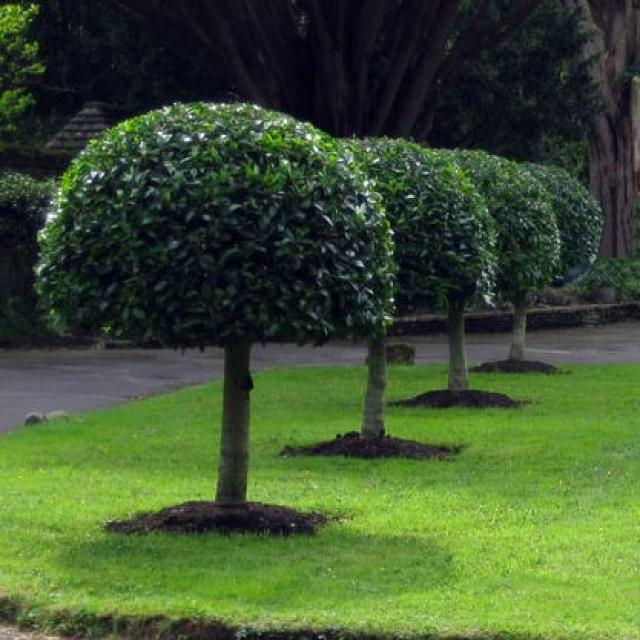foliage: (35, 101, 394, 505), (341, 140, 496, 436), (431, 151, 560, 311), (522, 162, 605, 294)
